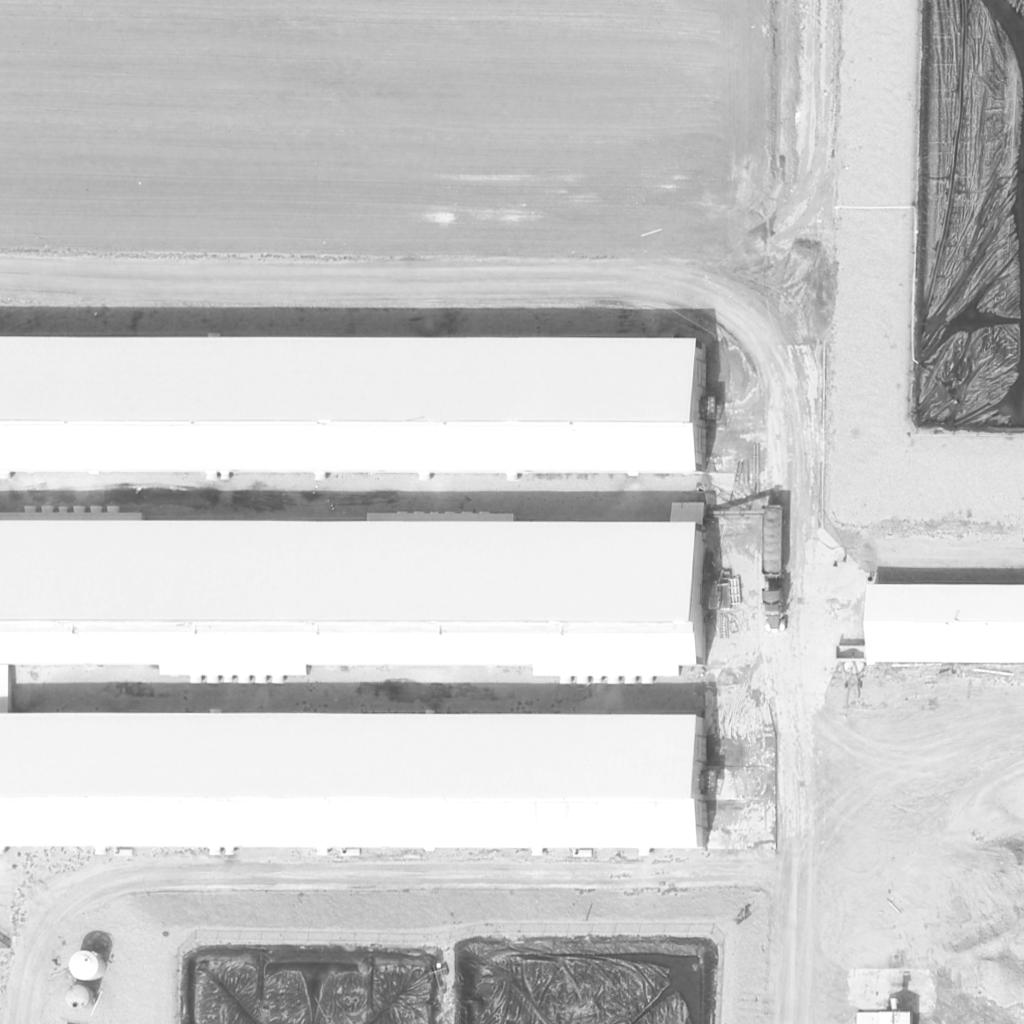vehicle: (759, 504, 789, 634)
